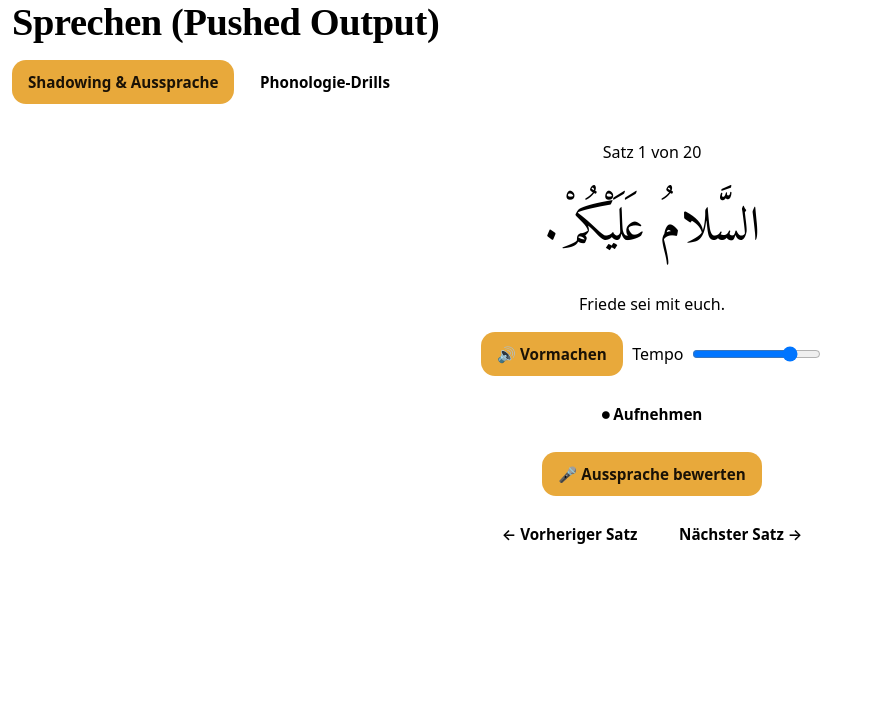
it: Speaking (integration, letter feedback) › rates the recording just made on the server, without speaking again
Click the button "⏺ Aufnehmen": (652, 414) [586, 392, 718, 436]
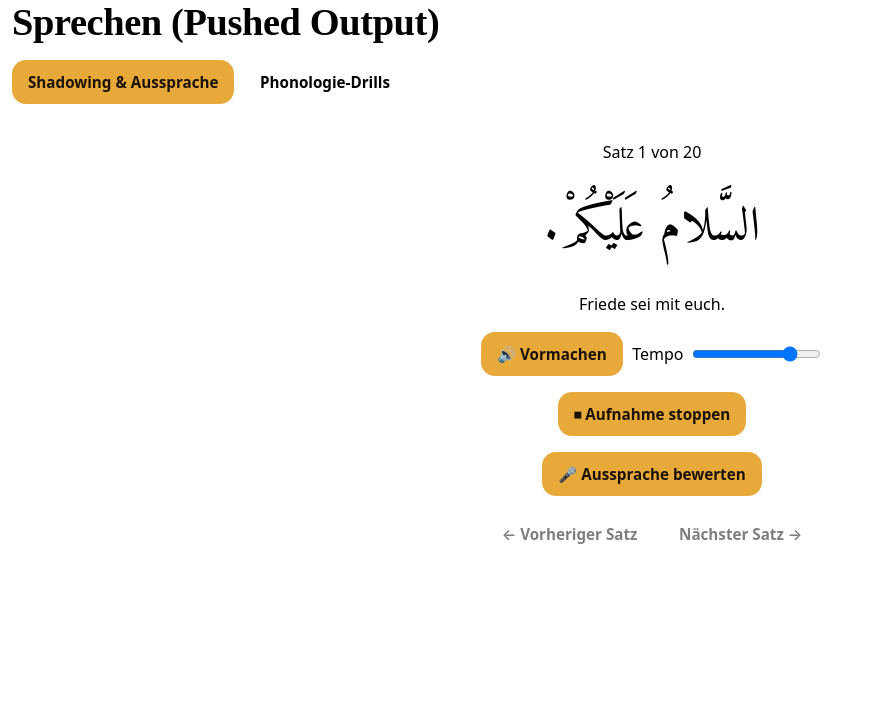
Click the button "⏹ Aufnahme stoppen": (652, 414) [558, 392, 746, 436]
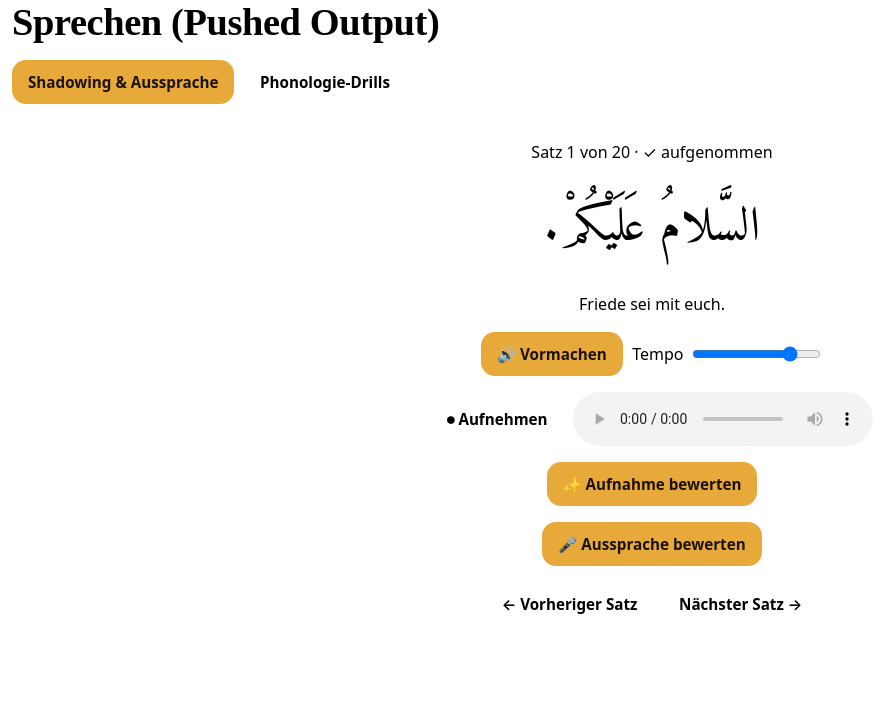
Click the button "✨ Aufnahme bewerten": (652, 484) [546, 462, 757, 506]
(page scrolled)
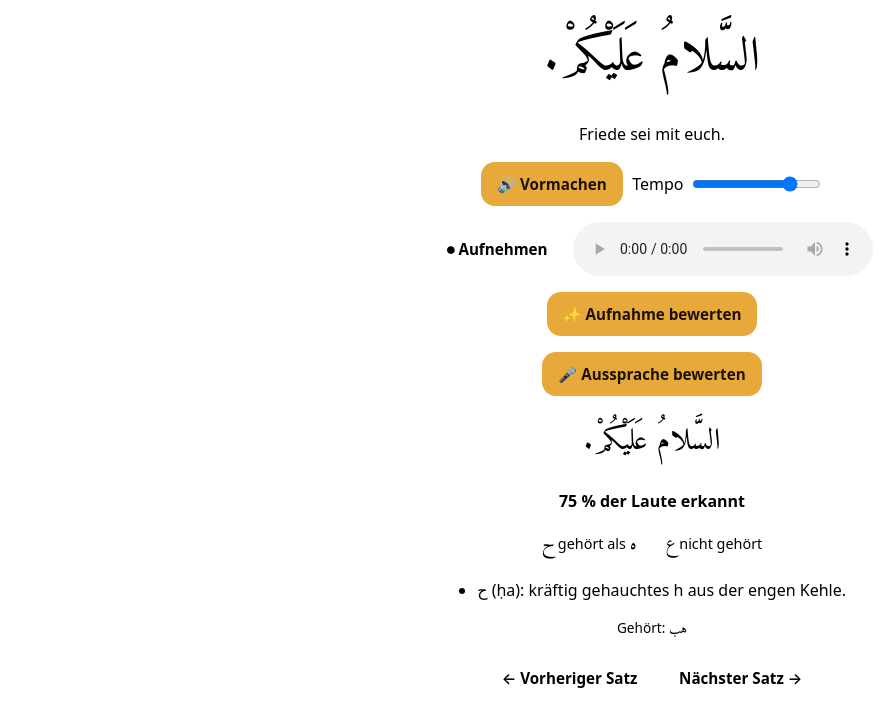
Now the text "75 % der Laute erkannt" is shown, box [559, 489, 745, 513]
Now the list named "Laute zum Üben" shows "ح gehört als ه", box [530, 529, 774, 562]
Now the list named "Laute zum Üben" shows "ع nicht gehört", box [530, 529, 774, 562]
